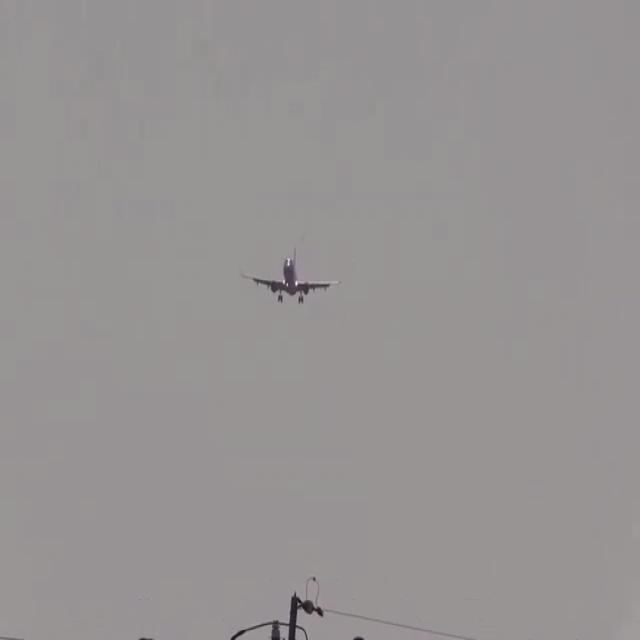AirPlane: (234, 240, 350, 310)
